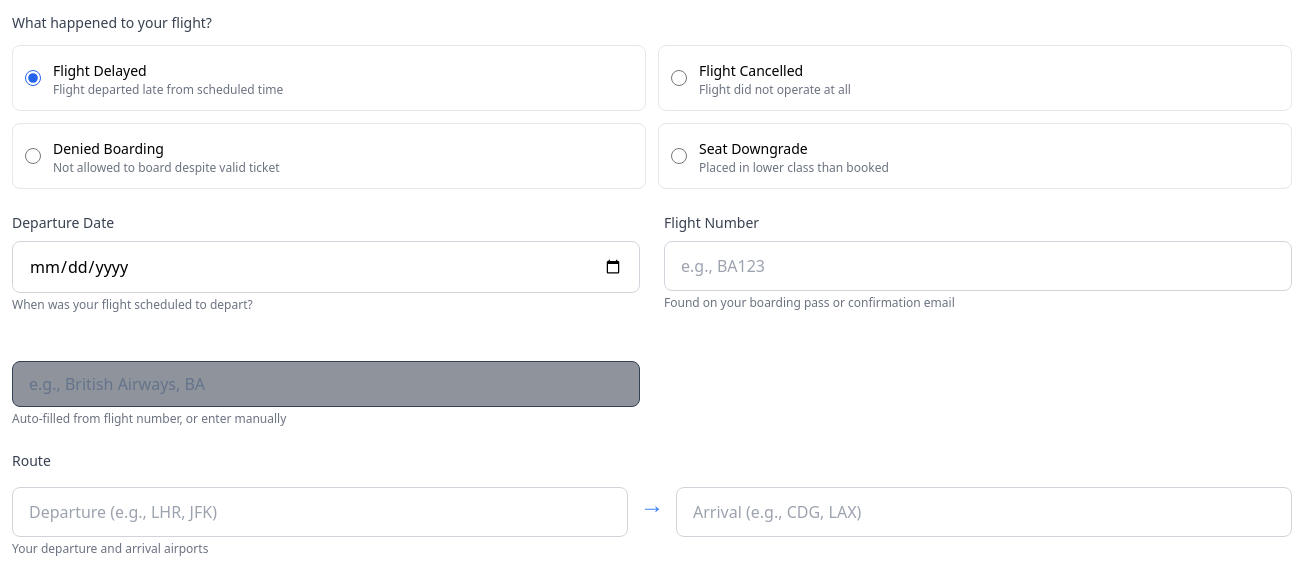
Test: FlightLookupForm - Conditional Rendering › cancellation-specific fields › should hide alternative timing fields when alternative offered is unchecked
Click the radio button labelled "Flight Cancelled Flight did not operate at all" at (679, 78), box [671, 70, 687, 86]
(page scrolled)
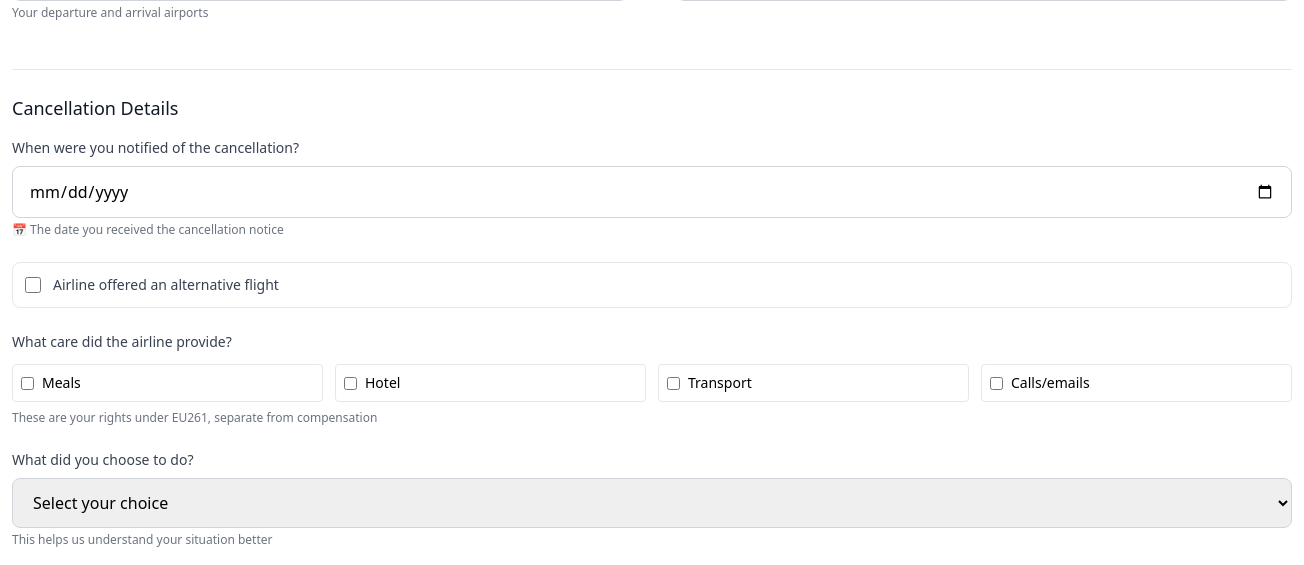
// Check it
Click the checkbox labelled "Airline offered an alternative flight" at (33, 285), box [25, 277, 41, 293]
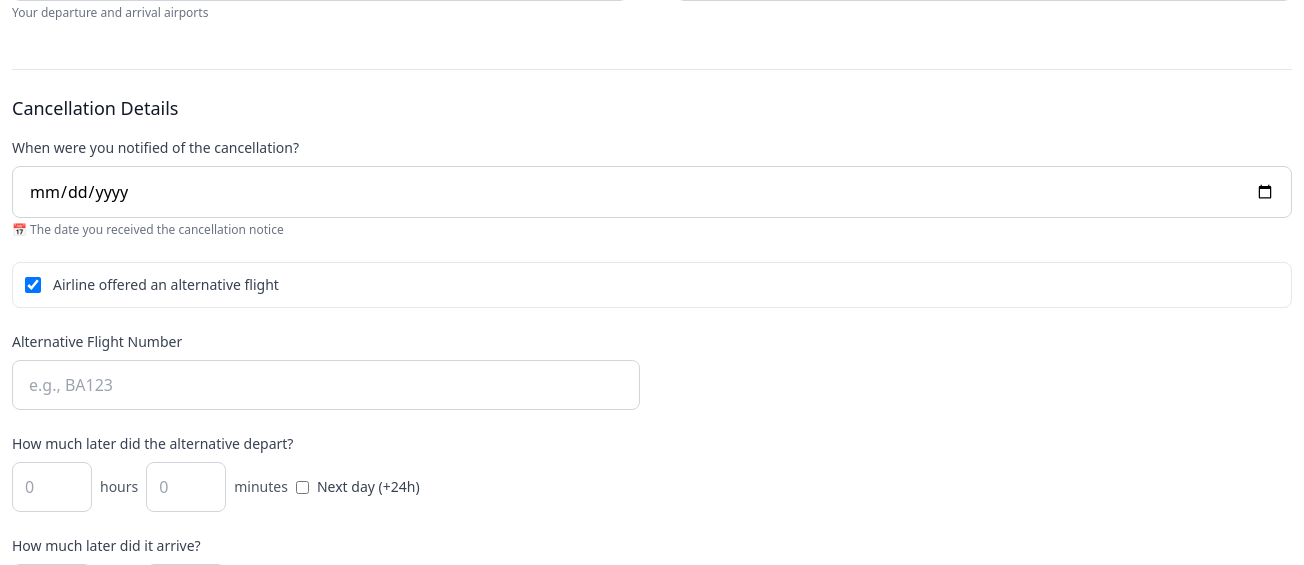
Check: the text "How much later did the alternative depart?" is shown, box [12, 434, 293, 453]
// Uncheck it
Click the checkbox labelled "Airline offered an alternative flight" at (33, 285), box [25, 277, 41, 293]
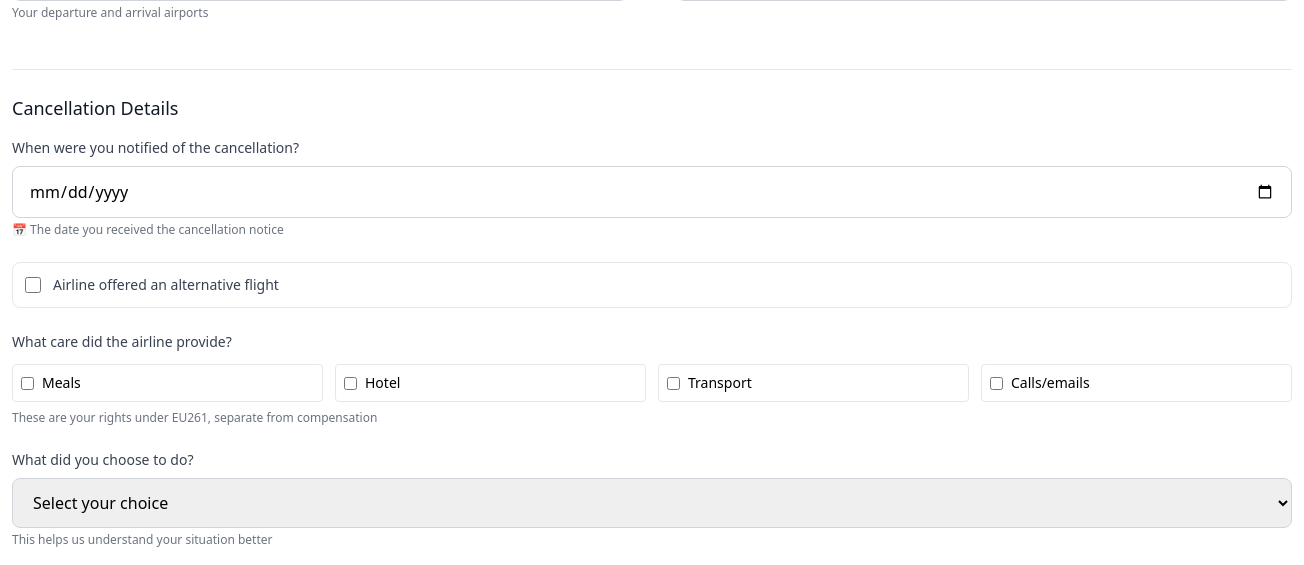
Check: the text "How much later did the alternative depart" is gone
